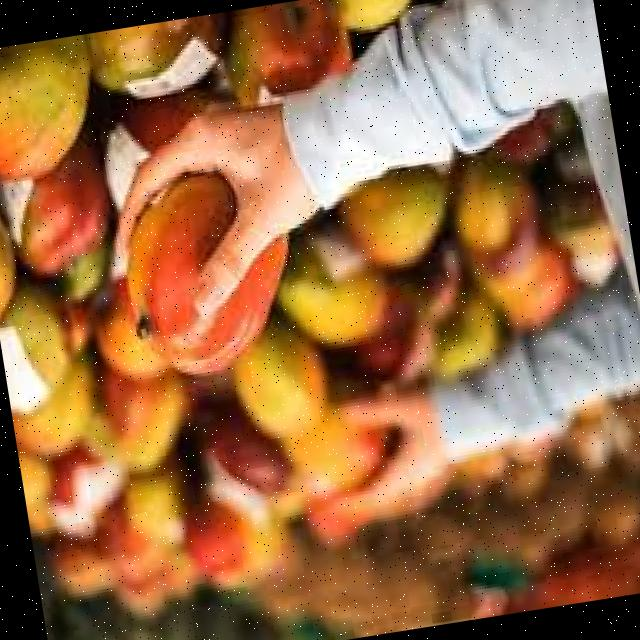mango: (228, 301, 328, 435)
